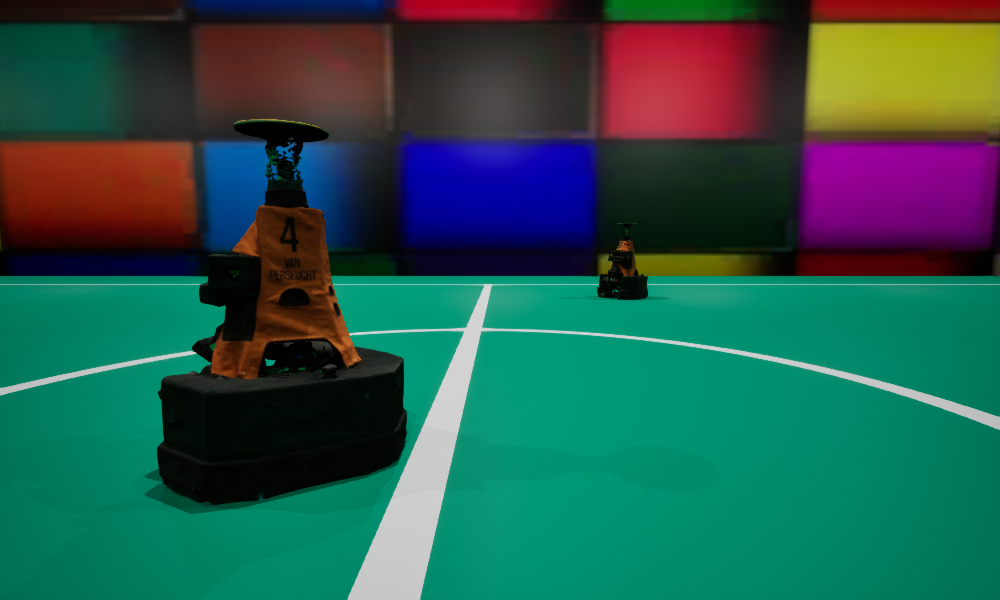0 orange robot TechUnited: (157, 119, 406, 503), (597, 223, 647, 298), (236, 225, 254, 295)
